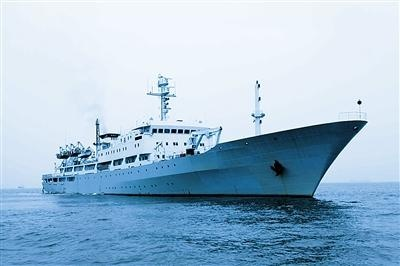warship: (42, 70, 371, 200)
